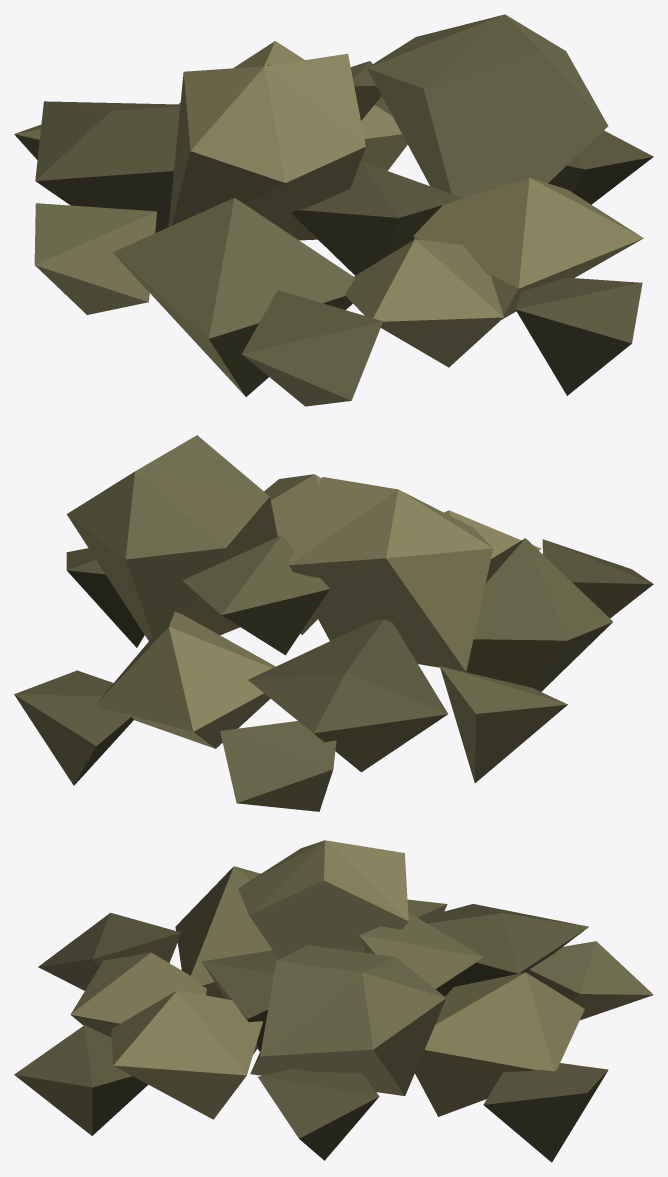
File: SM_Env_Plant_03.glb
3 renders of one model, top to bottom at view 1: azimuth 30°, elevation 25°; view 2: azimuth 150°, elevation 25°; view 3: azimuth 270°, elevation 25°, orthographic. The views are drawn at different scales.
Visible parts, largest first — view 1: SM_Env_Plant_03; view 2: SM_Env_Plant_03; view 3: SM_Env_Plant_03.
Boxes of the visible parts, x1=… form: SM_Env_Plant_03: x1=14, y1=14, x2=653, y2=406; SM_Env_Plant_03: x1=14, y1=435, x2=653, y2=811; SM_Env_Plant_03: x1=14, y1=840, x2=653, y2=1162.
Bounding box in the file's own units: 1.36 × 0.6388 × 1.54.
1 material, 1 textured.
